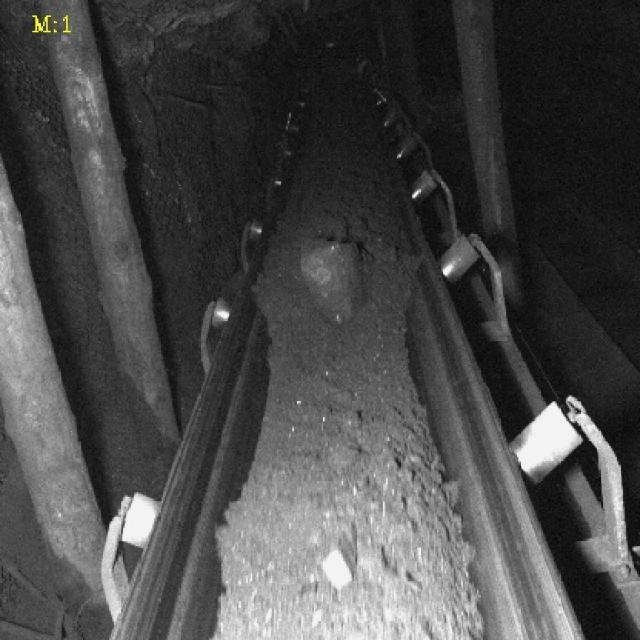large_sized_coal: (296, 239, 364, 323), (317, 542, 355, 584)
